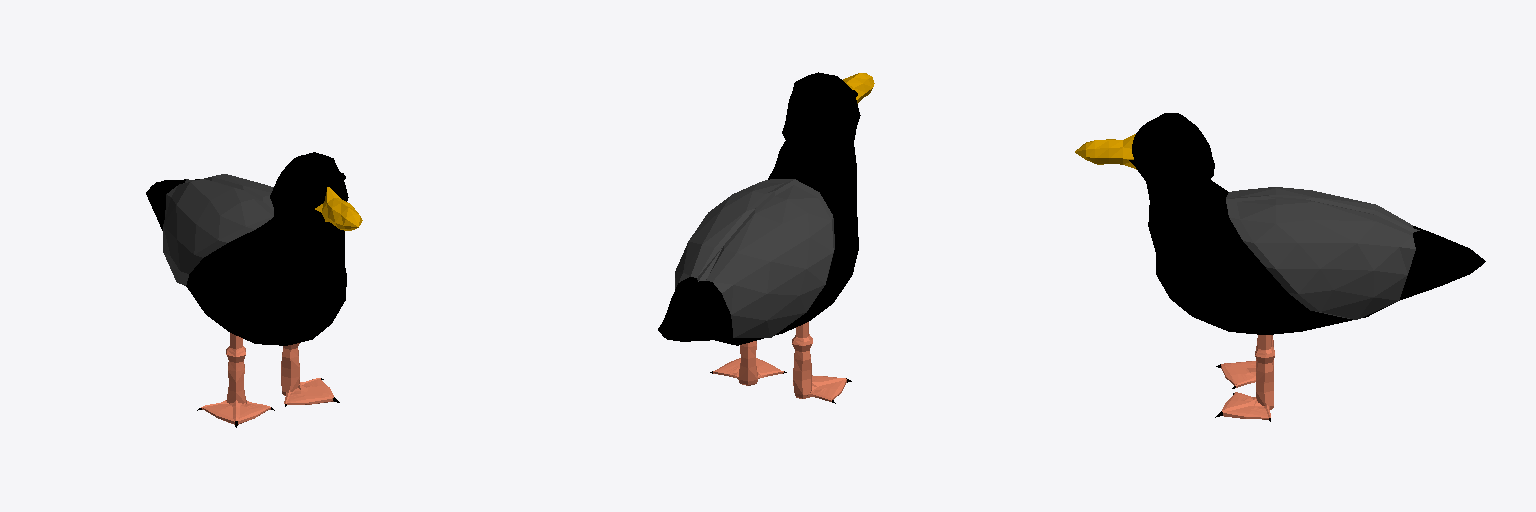
File: NOVELO_SEAGULL.obj
3 views of the same model, side by side, from view 1: azimuth 30°, elevation 25°; view 2: azimuth 150°, elevation 25°; view 3: azimuth 270°, elevation 25° (orthographic).
Visible parts, largest first — view 1: Symmetry.1; view 2: Symmetry.1; view 3: Symmetry.1.
Boxes of the visible parts, <box> form: Symmetry.1: <box>146,152,362,427</box>; Symmetry.1: <box>658,72,874,403</box>; Symmetry.1: <box>1075,113,1485,421</box>.
Size of the model in its own units: 208 by 417 by 556.